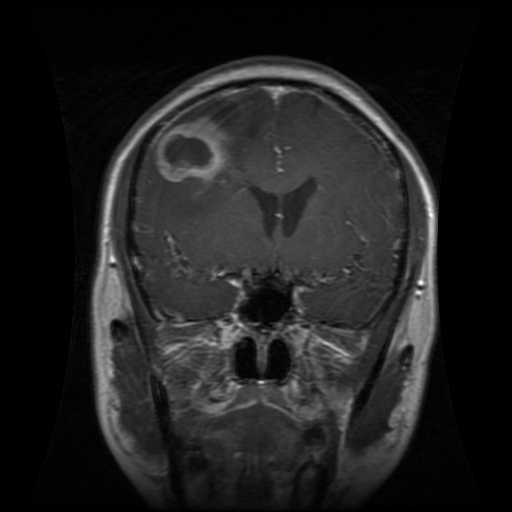glioma: (147, 98, 247, 191)
